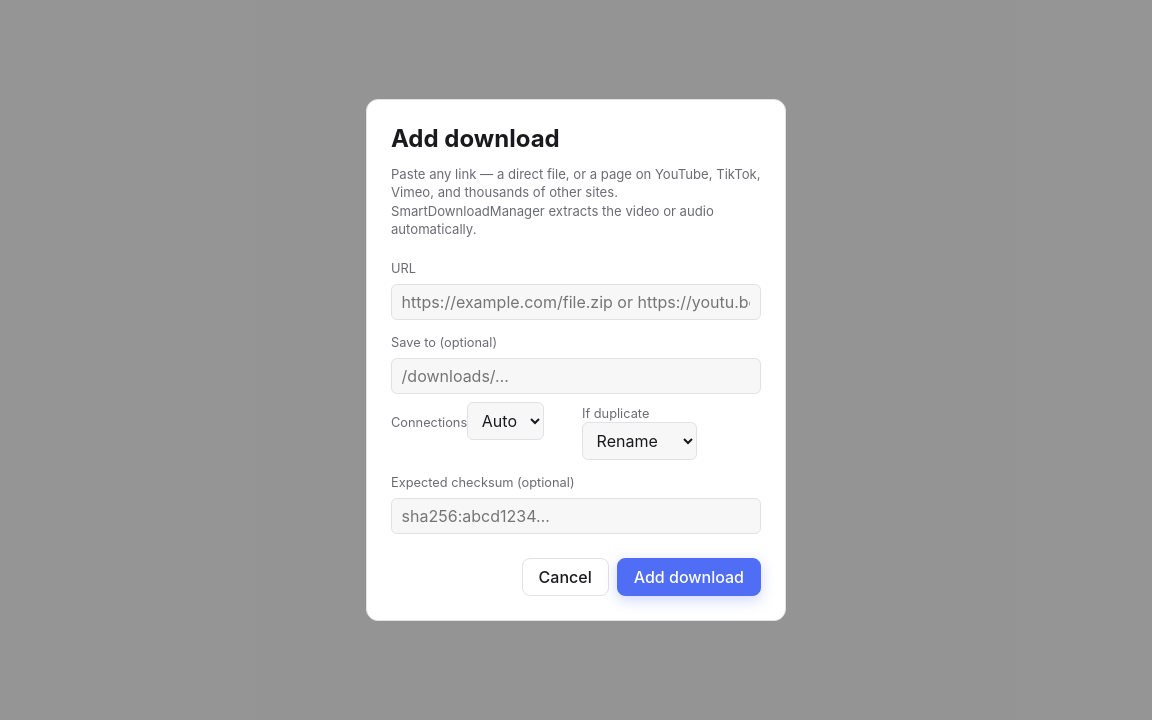
Scenario: AddDownloadDialog › shows a capture-any-link banner and quality picker for a known video host
Step 1. Type "https://youtu.be/6hkG4-LgwvI" into the field with placeholder "https://example.com/file.zip or https://youtu.be/…" → (576, 302), box [391,284,761,320]
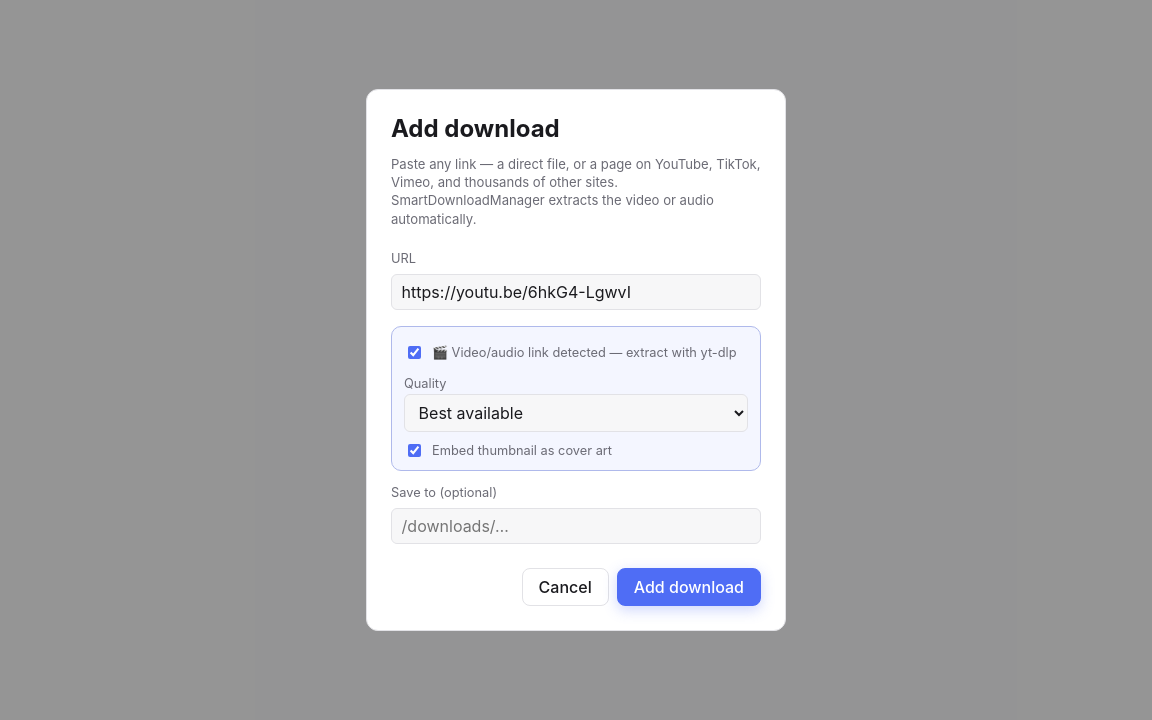
Now the text "🎬 Video/audio link detected — extract with yt-dlp" is shown, box [432,345,736,360]
